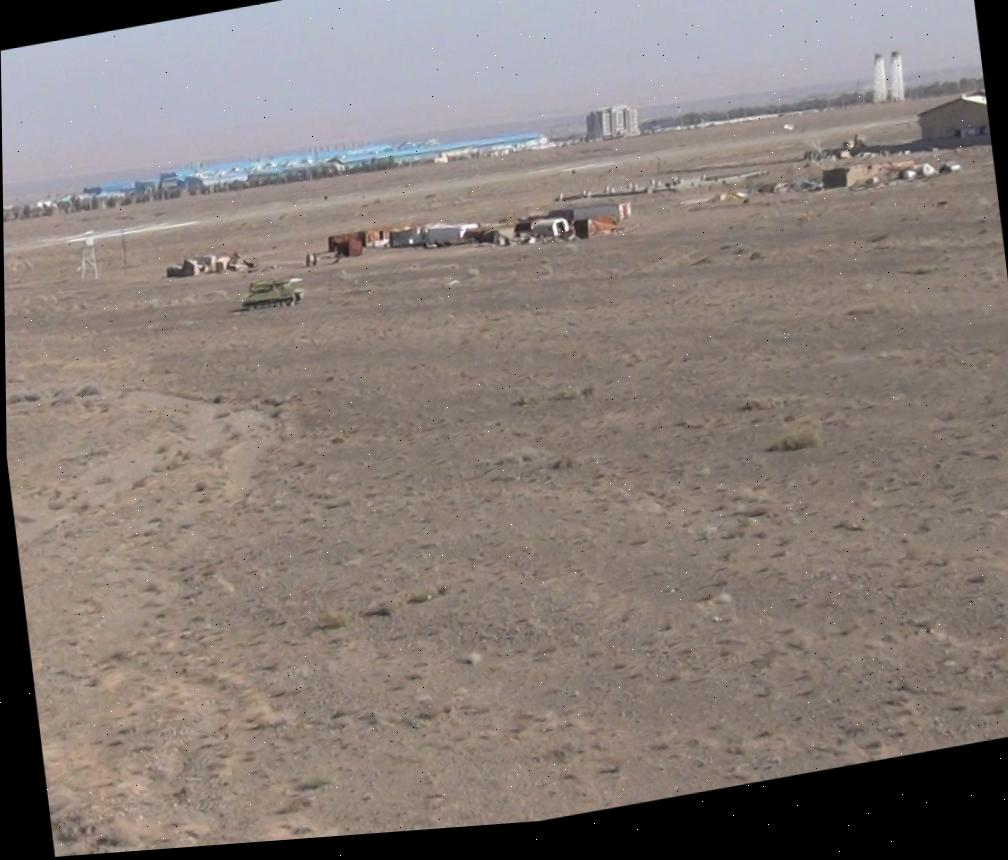armored_car: (234, 269, 308, 317)
